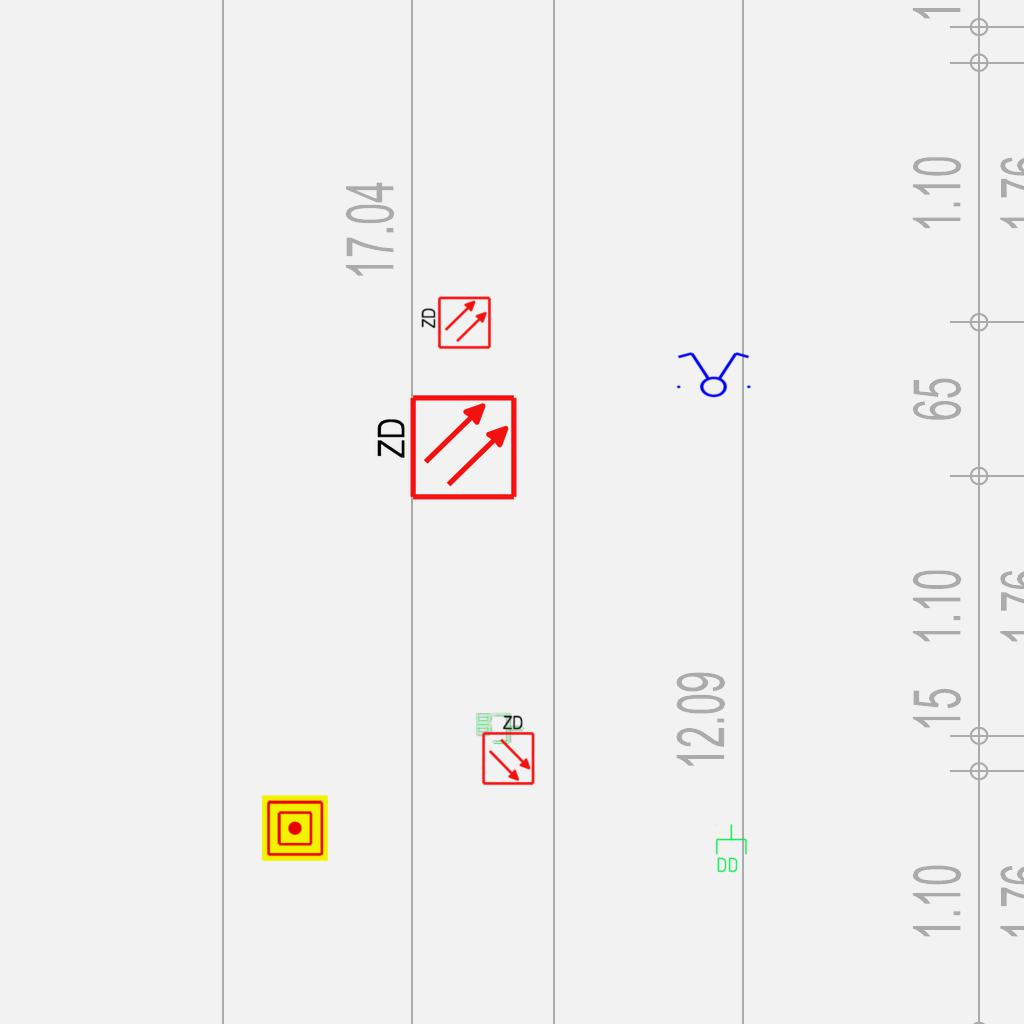Datenanschluss_zweifach: (714, 823, 748, 874), (474, 711, 525, 745)
NAM-Nichtautomatischer_Melder: (262, 795, 328, 861)
Serienschalter: (671, 350, 755, 398)
ZD_Melder_in_Zwischendecke_mit_Revisionsoeffnung_mind_40_x_40_cm: (370, 392, 519, 506), (418, 295, 492, 352), (479, 712, 536, 786)
